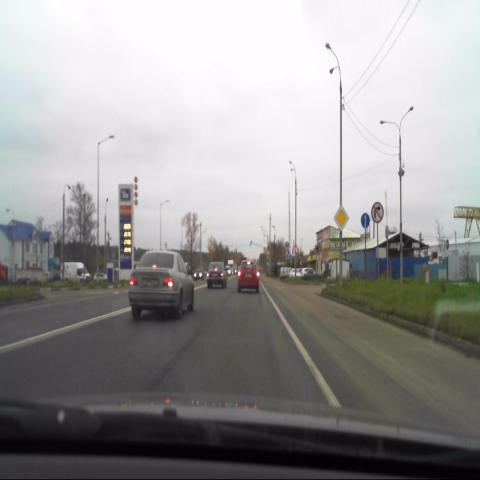3_18: (370, 202, 384, 223)
